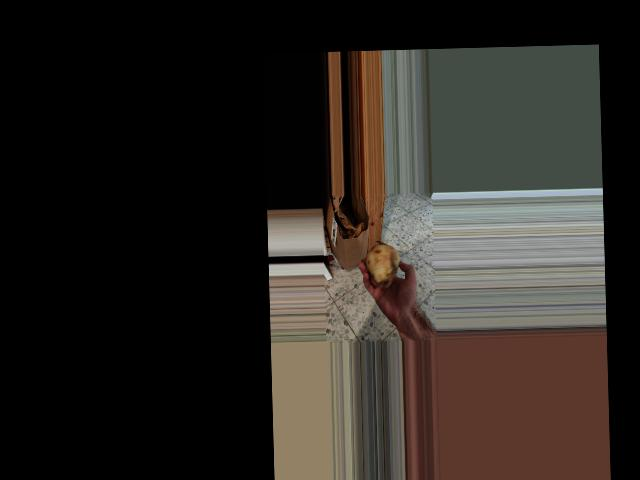onion: (362, 241, 402, 290)
